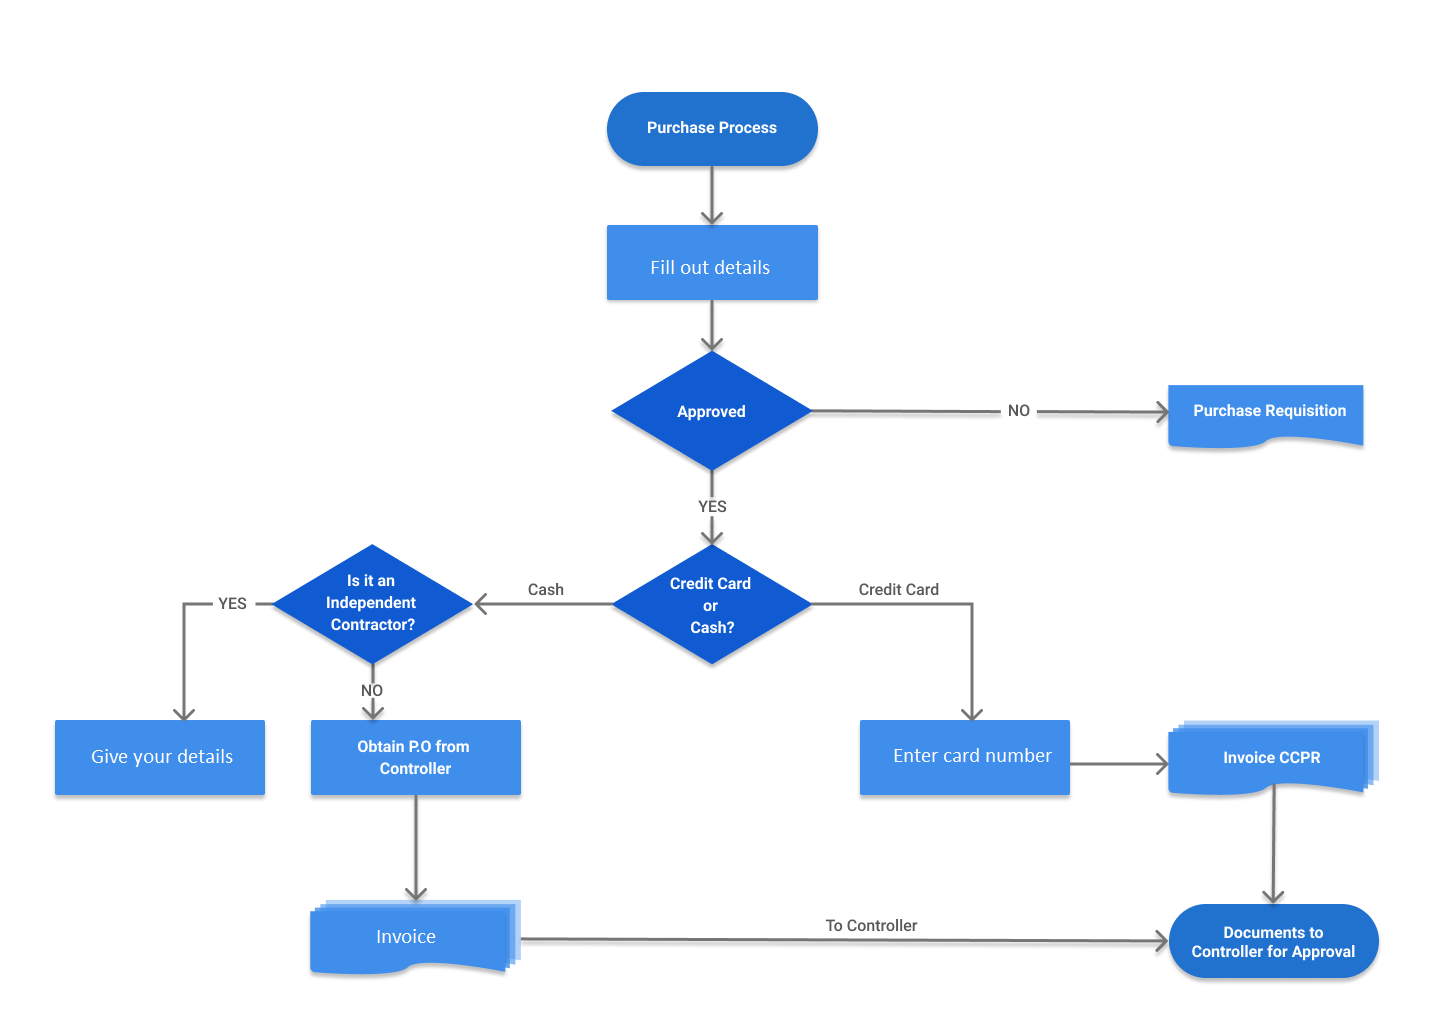arrow: (798, 600, 988, 725), (514, 928, 1172, 958), (169, 596, 282, 721), (808, 396, 1172, 424), (472, 588, 625, 616), (400, 789, 433, 903), (1261, 782, 1290, 907), (1069, 750, 1172, 774), (699, 469, 724, 549), (697, 160, 724, 225), (697, 294, 727, 354), (361, 655, 385, 721)
decision: (605, 349, 821, 474), (269, 541, 477, 670), (614, 546, 813, 667)
process: (853, 713, 1078, 802), (52, 714, 272, 805), (600, 221, 825, 307), (305, 895, 524, 983), (310, 714, 527, 800), (1161, 719, 1385, 802), (1163, 380, 1372, 455)
terminator: (600, 88, 822, 174), (1161, 897, 1384, 982)
text: (1189, 924, 1362, 964), (666, 574, 758, 641), (353, 733, 477, 777), (86, 744, 238, 771), (886, 744, 1055, 766), (1187, 400, 1350, 422), (642, 116, 781, 139), (647, 255, 774, 278), (856, 575, 946, 600), (669, 400, 749, 424), (1221, 746, 1328, 764), (819, 917, 920, 933), (371, 925, 435, 946), (522, 580, 570, 597), (210, 592, 250, 613), (356, 675, 385, 700), (697, 496, 733, 516), (1002, 397, 1033, 417)
